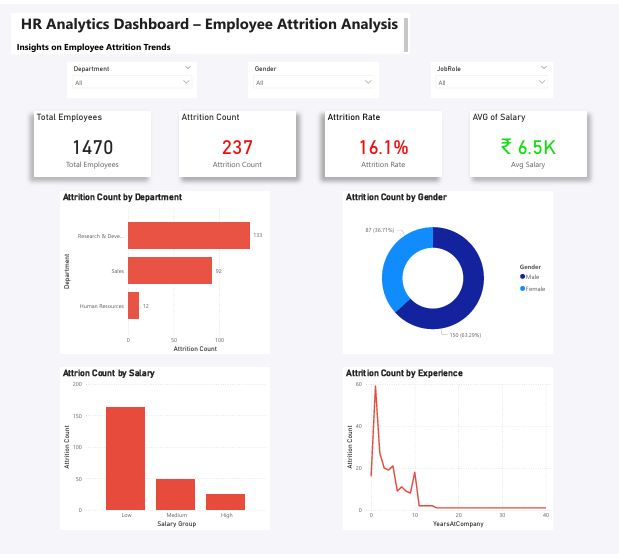

This screenshot's page, from the dashboard's own definition file:
{"tool":"powerbi","page":{"name":"HR Dashboard","canvas":[1350,1150],"ordinal":0},"visuals":[{"type":"card","title":"Total Employees","fields":{"Values":["WA_Fn-UseC_-HR-Employee-Attrition.Total Employees"]},"box":[74,232,250,140],"z":0},{"type":"card","title":"Attrition Count","fields":{"Values":["WA_Fn-UseC_-HR-Employee-Attrition.Attrition Count"]},"box":[386.7,232,250,140],"z":1000},{"type":"card","title":"Attrition Rate","fields":{"Values":["WA_Fn-UseC_-HR-Employee-Attrition.Attrition Rate"]},"box":[699.3,232,250,140],"z":2000},{"type":"card","title":"AVG of Salary","fields":{"Values":["WA_Fn-UseC_-HR-Employee-Attrition.Avg Salary"]},"box":[1012,232,250,140],"z":3000},{"type":"clusteredBarChart","fields":{"Category":["WA_Fn-UseC_-HR-Employee-Attrition.Department"],"Y":["WA_Fn-UseC_-HR-Employee-Attrition.Attrition Count"]},"box":[130,404,450,350],"z":4000},{"type":"donutChart","fields":{"Category":["WA_Fn-UseC_-HR-Employee-Attrition.Gender"],"Y":["WA_Fn-UseC_-HR-Employee-Attrition.Attrition Count"]},"box":[740,404,450,350],"z":5000},{"type":"clusteredColumnChart","title":"Attrion Count by Salary ","fields":{"Category":["WA_Fn-UseC_-HR-Employee-Attrition.Salary Group"],"Y":["WA_Fn-UseC_-HR-Employee-Attrition.Attrition Count"]},"box":[130,782,450,350],"z":6000},{"type":"lineChart","title":"Attrition Count by Experience","fields":{"Y":["WA_Fn-UseC_-HR-Employee-Attrition.Attrition Count"],"Category":["WA_Fn-UseC_-HR-Employee-Attrition.YearsAtCompany"]},"box":[740,782,450,350],"z":7000},{"type":"textbox","box":[26,20,858,88],"z":8000},{"type":"slicer","fields":{"Values":["WA_Fn-UseC_-HR-Employee-Attrition.Department"]},"box":[146,126,278,76],"z":9000},{"type":"slicer","fields":{"Values":["WA_Fn-UseC_-HR-Employee-Attrition.Gender"]},"box":[536,126,280,76],"z":10000},{"type":"slicer","fields":{"Values":["WA_Fn-UseC_-HR-Employee-Attrition.JobRole"]},"box":[928,126,262,76],"z":11000}]}

Visuals, with their boxes on the page's 1350x1150 design canvas (x1, y1, x2, y2). These are canvas units, not pixel positions in the 619x554 screenshot, which may show the page scaled, cropped or inside an application window:
"Total Employees" card: bbox=[74, 232, 324, 372]
"Attrition Count" card: bbox=[387, 232, 637, 372]
"Attrition Rate" card: bbox=[699, 232, 949, 372]
"AVG of Salary" card: bbox=[1012, 232, 1262, 372]
clusteredBarChart - WA_Fn-UseC_-HR-Employee-Attrition.Department x WA_Fn-UseC_-HR-Employee-Attrition.Attrition Count: bbox=[130, 404, 580, 754]
donutChart - WA_Fn-UseC_-HR-Employee-Attrition.Gender x WA_Fn-UseC_-HR-Employee-Attrition.Attrition Count: bbox=[740, 404, 1190, 754]
"Attrion Count by Salary " clusteredColumnChart: bbox=[130, 782, 580, 1132]
"Attrition Count by Experience" lineChart: bbox=[740, 782, 1190, 1132]
textbox: bbox=[26, 20, 884, 108]
slicer - WA_Fn-UseC_-HR-Employee-Attrition.Department: bbox=[146, 126, 424, 202]
slicer - WA_Fn-UseC_-HR-Employee-Attrition.Gender: bbox=[536, 126, 816, 202]
slicer - WA_Fn-UseC_-HR-Employee-Attrition.JobRole: bbox=[928, 126, 1190, 202]
